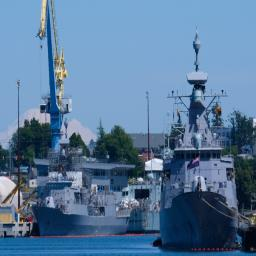Fragata: (159, 14, 239, 252)
